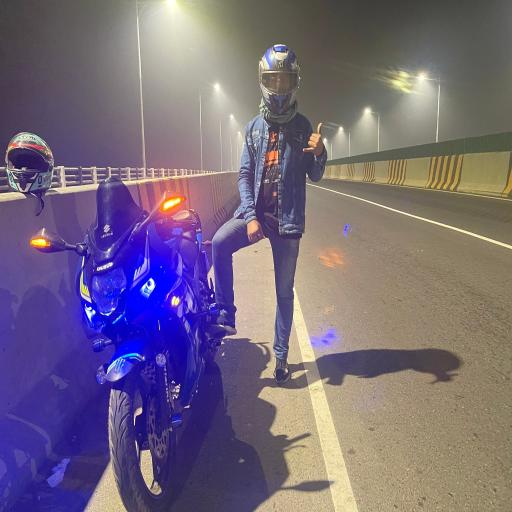helmet: (256, 42, 302, 120)
